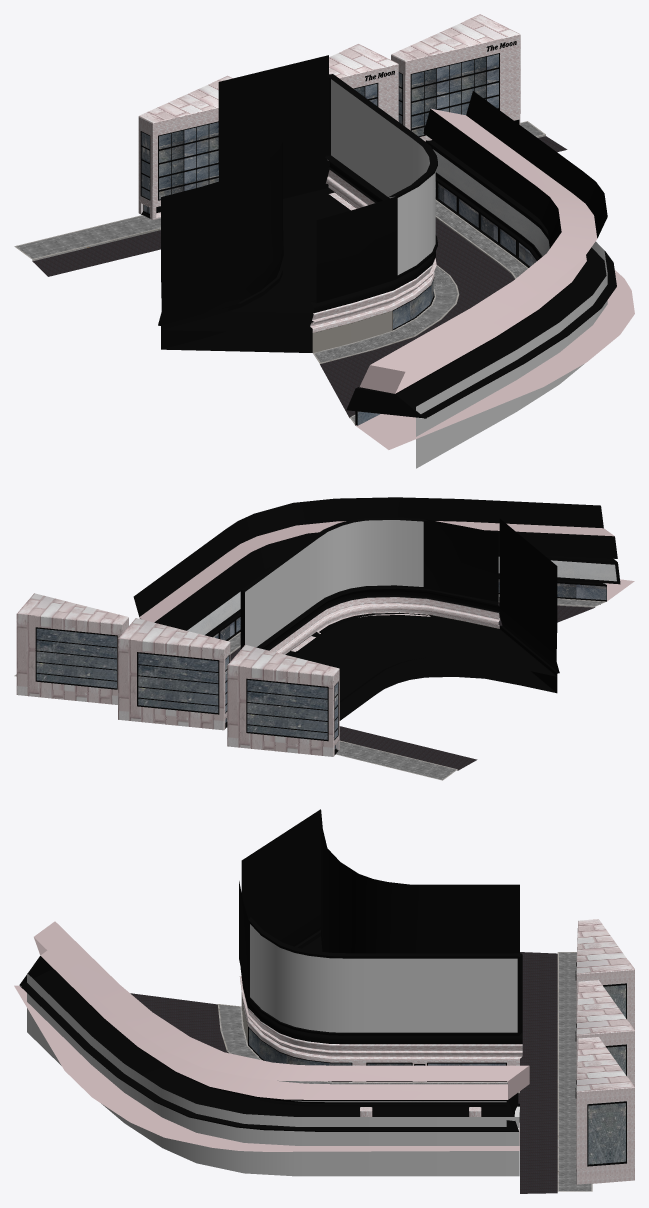
The model's file is backgroundFixfbx.fbx.
3 views of the same model, one above another, from view 1: azimuth 30°, elevation 25°; view 2: azimuth 150°, elevation 25°; view 3: azimuth 270°, elevation 25° (orthographic). The views are drawn at different scales.
Visible parts, largest first — view 1: building1, building2, building3.001, road, building3.002, sidewalk, building3; view 2: building1, building2, building3.002, building3, building3.001, road, sidewalk; view 3: building2, building1, road, building3.001, sidewalk, building3.002, building3.
Part boxes in pixels (x1,y1,x2,y2): building1: (158,55,437,352); building2: (346,91,634,468); building3.001: (391,14,520,141); road: (32,136,567,417); building3.002: (138,75,232,219); sidewalk: (14,121,545,424); building3: (327,44,398,160); building1: (240,517,559,720); building2: (133,497,634,640); building3.002: (227,644,339,756); building3: (118,618,230,730); building3.001: (16,593,128,704); road: (230,602,594,770); sidewalk: (14,594,605,780); building2: (14,921,529,1176); building1: (239,809,522,1082); road: (130,952,557,1193); building3.001: (575,1037,634,1184); sidewalk: (217,952,592,1191); building3.002: (575,919,634,1029); building3: (575,980,634,1086).
Bounding box in the file's own units: 22417 × 7597 × 24265.
